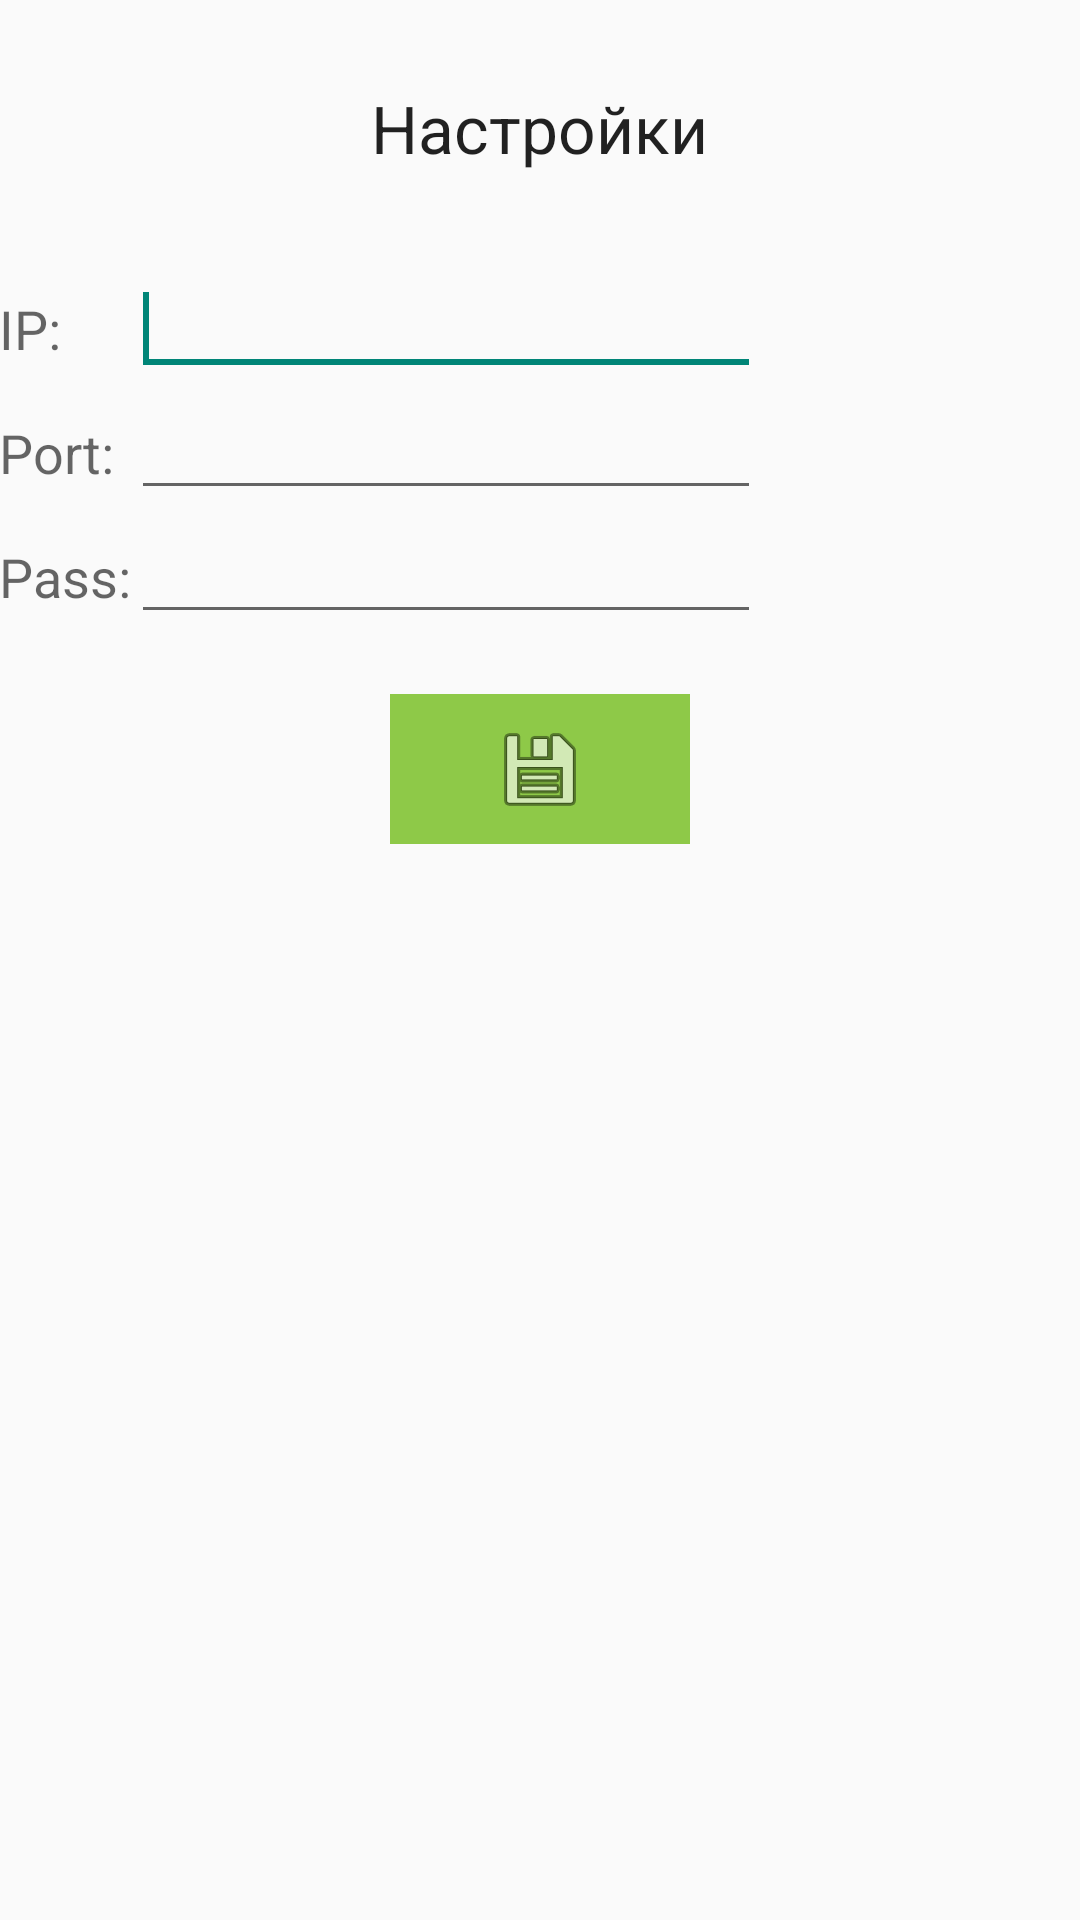

Where to tap for icons on this 1080x1920 app screen, as point (x, y):
save: point (540, 769)
